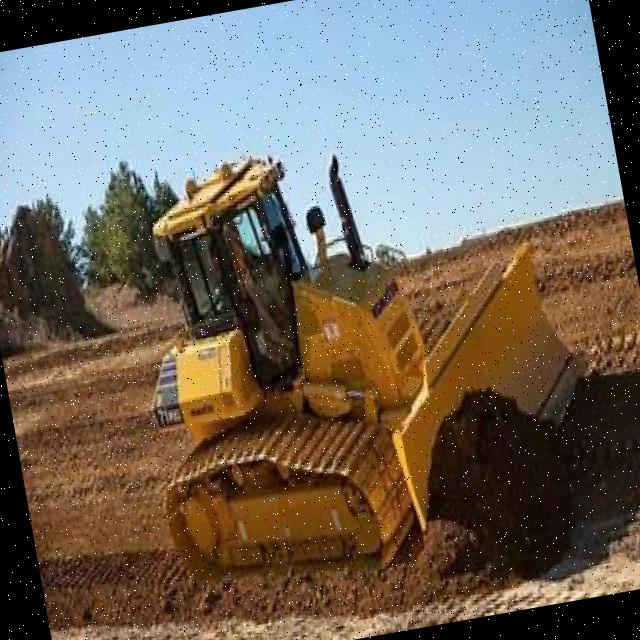Bulldozer: (75, 55, 640, 640)
